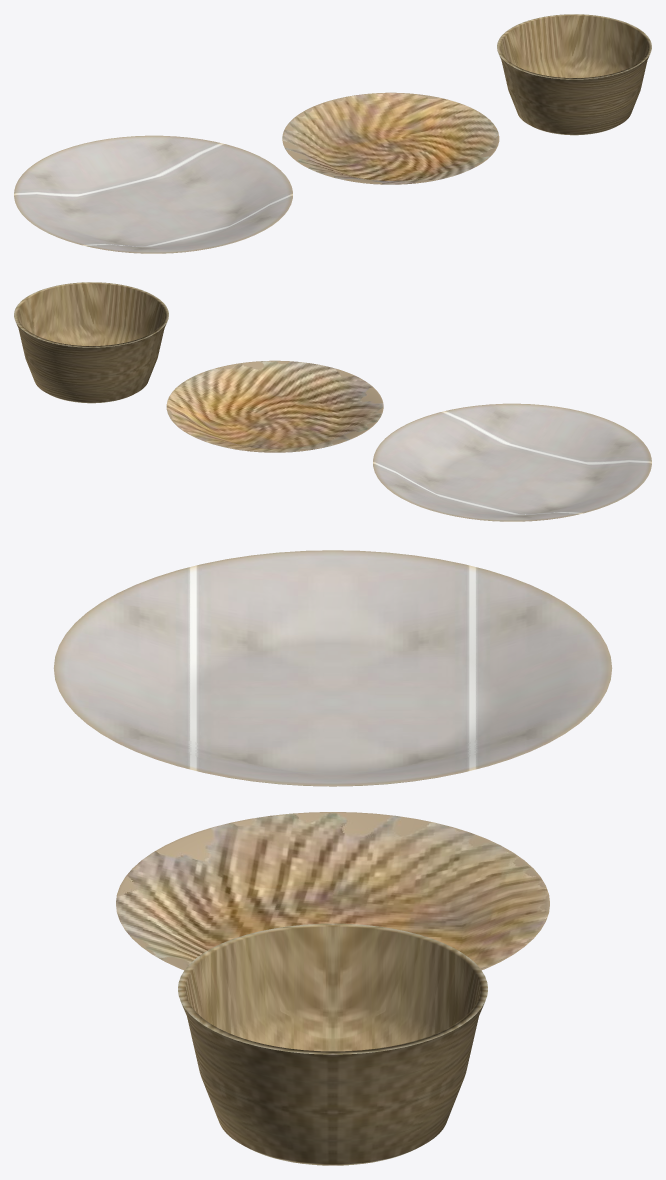
3 renders of one model, top to bottom at view 1: azimuth 30°, elevation 25°; view 2: azimuth 150°, elevation 25°; view 3: azimuth 270°, elevation 25°, orthographic. The views are drawn at different scales.
Bounding box in the file's own units: 0.68 × 0.07 × 0.27.
Materials: 6 (6 with a texture image).
